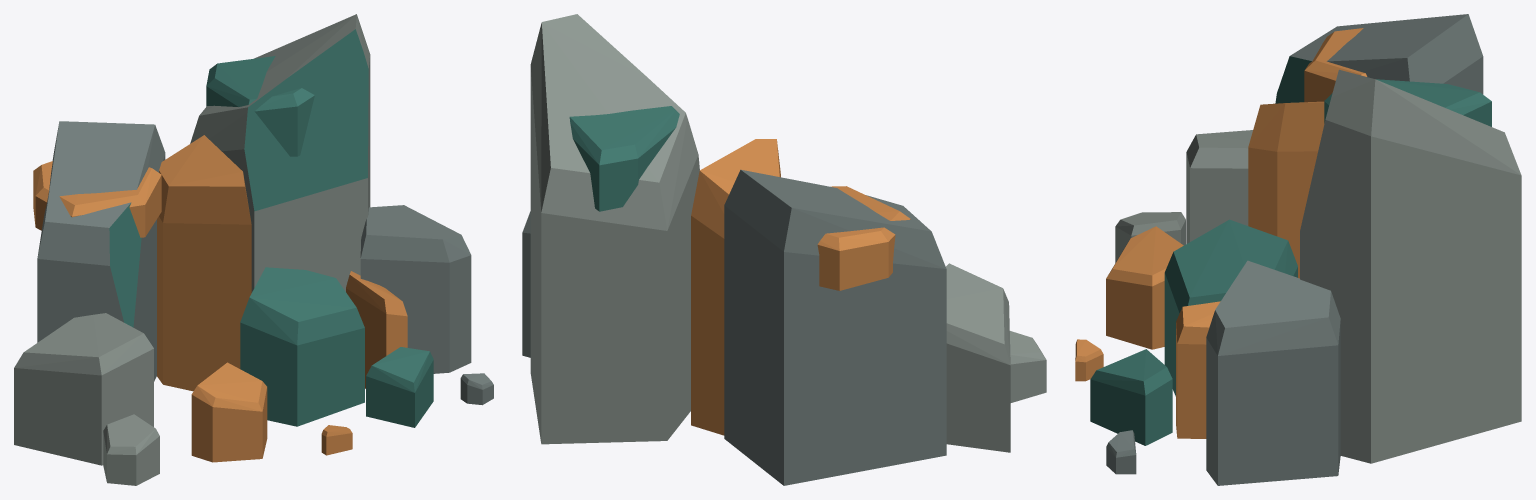
File: copper_deposit.glb
3 renders of one model, left to right at view 1: azimuth 30°, elevation 25°; view 2: azimuth 150°, elevation 25°; view 3: azimuth 270°, elevation 25°, orthographic. The views are drawn at different scales.
Visible parts, largest first — view 1: Copper deposit Stone, Copper deposit Copper ore, Copper deposit Weathered stone, Copper deposit Green copper mineral; view 2: Copper deposit Stone, Copper deposit Weathered stone, Copper deposit Copper ore, Copper deposit Green copper mineral; view 3: Copper deposit Stone, Copper deposit Weathered stone, Copper deposit Copper ore, Copper deposit Green copper mineral.
Part boxes in pixels (<box>): Copper deposit Stone: <box>14,14,370,485</box>; Copper deposit Copper ore: <box>33,135,407,462</box>; Copper deposit Weathered stone: <box>37,121,493,405</box>; Copper deposit Green copper mineral: <box>206,56,433,427</box>; Copper deposit Stone: <box>530,14,1046,452</box>; Copper deposit Weathered stone: <box>522,169,946,485</box>; Copper deposit Copper ore: <box>691,139,910,435</box>; Copper deposit Green copper mineral: <box>569,106,679,211</box>; Copper deposit Stone: <box>1115,69,1521,463</box>; Copper deposit Weathered stone: <box>1106,14,1483,485</box>; Copper deposit Copper ore: <box>1075,28,1367,438</box>; Copper deposit Green copper mineral: <box>1090,79,1491,445</box>.
Bounding box in the file's own units: 1.45 × 1.02 × 1.09.
